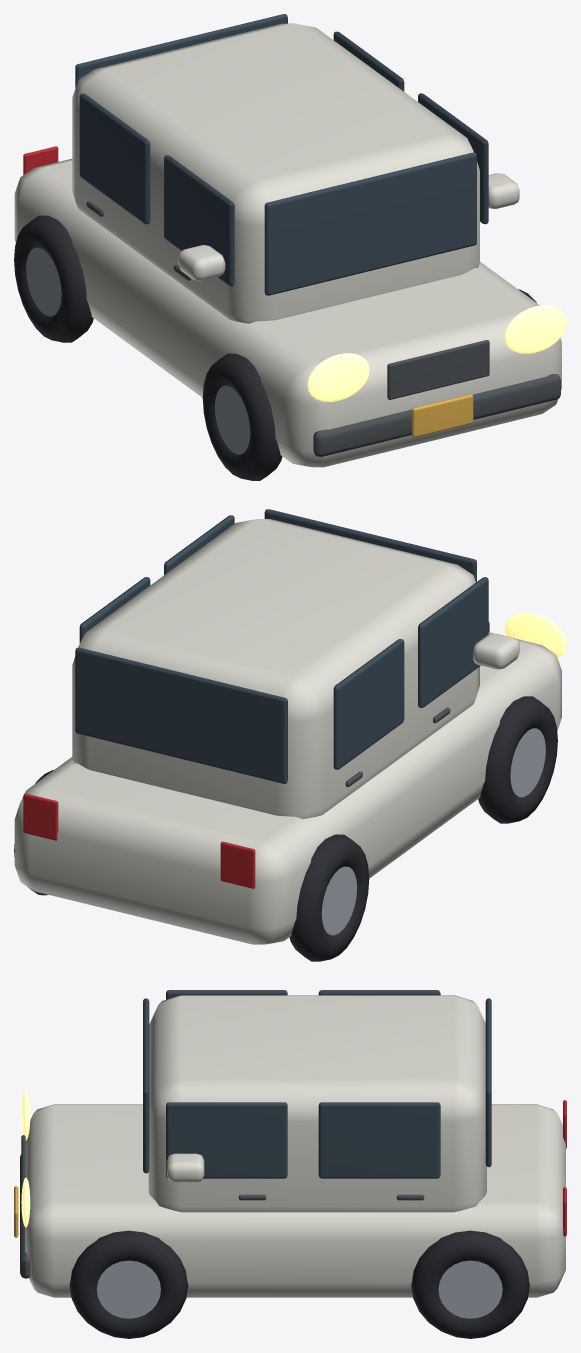
Rendered from car.glb.
The picture shows the model from 3 angles, top to bottom: view 1: azimuth 30°, elevation 25°; view 2: azimuth 150°, elevation 25°; view 3: azimuth 270°, elevation 25°; orthographic projection. The views are drawn at different scales.
Parts seen in each view (by area): view 1: Batch_Kei warm white paint, Batch_Blue smoked glass, Batch_Charcoal fabric, Batch_Graphite metal, Batch_Warm lit windows, Batch_Brushed silver, Batch_Tactile ochre, Batch_Vermilion; view 2: Batch_Kei warm white paint, Batch_Blue smoked glass, Batch_Charcoal fabric, Batch_Brushed silver, Batch_Vermilion, Batch_Warm lit windows; view 3: Batch_Kei warm white paint, Batch_Blue smoked glass, Batch_Charcoal fabric, Batch_Brushed silver, Batch_Graphite metal, Batch_Warm lit windows.
Part boxes in pixels (x1,y1,x2,y2): Batch_Kei warm white paint: (14,23,561,467); Batch_Blue smoked glass: (75,14,488,295); Batch_Charcoal fabric: (14,215,536,480); Batch_Graphite metal: (86,201,560,456); Batch_Warm lit windows: (307,305,566,401); Batch_Brushed silver: (26,247,250,454); Batch_Tactile ochre: (412,394,473,437); Batch_Vermilion: (23,146,58,174); Batch_Kei warm white paint: (14,518,561,944); Batch_Blue smoked glass: (75,509,488,783); Batch_Charcoal fabric: (14,696,557,961); Batch_Brushed silver: (321,728,545,935); Batch_Vermilion: (23,793,255,888); Batch_Warm lit windows: (504,612,566,658); Batch_Kei warm white paint: (25,995,565,1297); Batch_Blue smoked glass: (143,990,491,1178); Batch_Charcoal fabric: (69,1230,529,1338); Batch_Brushed silver: (96,1260,502,1318); Batch_Graphite metal: (20,1135,424,1278); Batch_Warm lit windows: (21,1090,30,1227).
Size of the model in its own units: 1.99 by 1.55 by 3.22.
